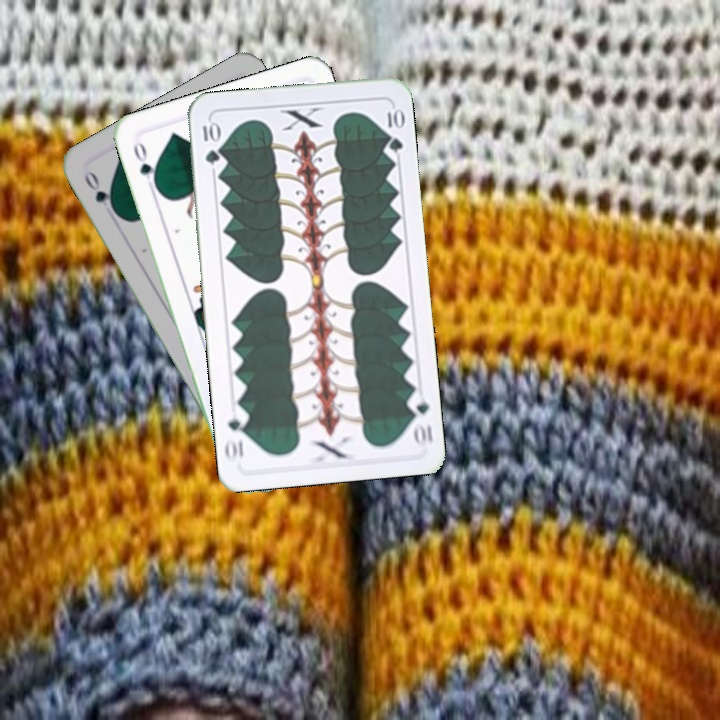G10: (404, 389, 435, 449), (198, 117, 222, 167)
GO: (80, 167, 120, 217), (129, 138, 161, 195)
